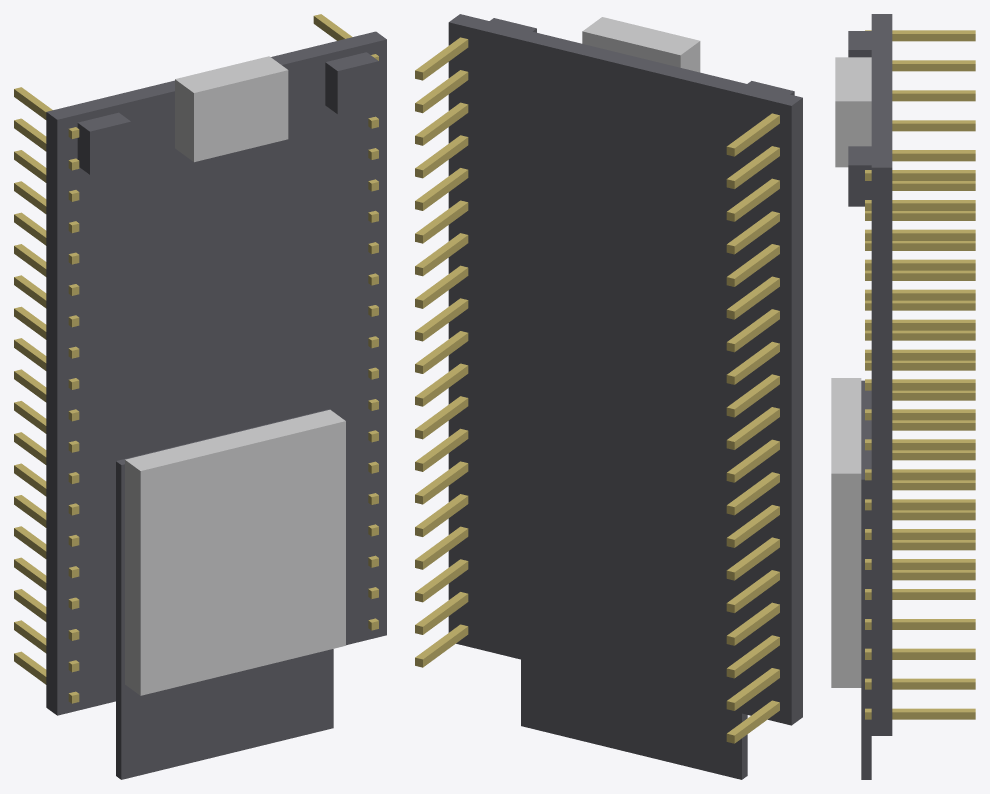
Rendered from esp32_devkitc_v4.glb.
3 views of the same model, side by side, from view 1: azimuth 30°, elevation 25°; view 2: azimuth 150°, elevation 25°; view 3: azimuth 270°, elevation 25° (orthographic). The views are drawn at different scales.
Parts seen in each view (by area): view 1: extra, housing, pins; view 2: extra, pins, housing; view 3: pins, extra, housing.
Boxes of the visible parts, x1,y1,x2,y2 form: extra: [46, 31, 386, 779]; housing: [125, 56, 345, 695]; pins: [14, 14, 378, 703]; extra: [448, 14, 802, 779]; pins: [415, 37, 779, 743]; housing: [582, 17, 700, 72]; pins: [865, 30, 975, 719]; extra: [848, 14, 892, 779]; housing: [831, 57, 871, 687].
Bounding box in the file's own units: 27.94 × 55.27 × 11.1.
